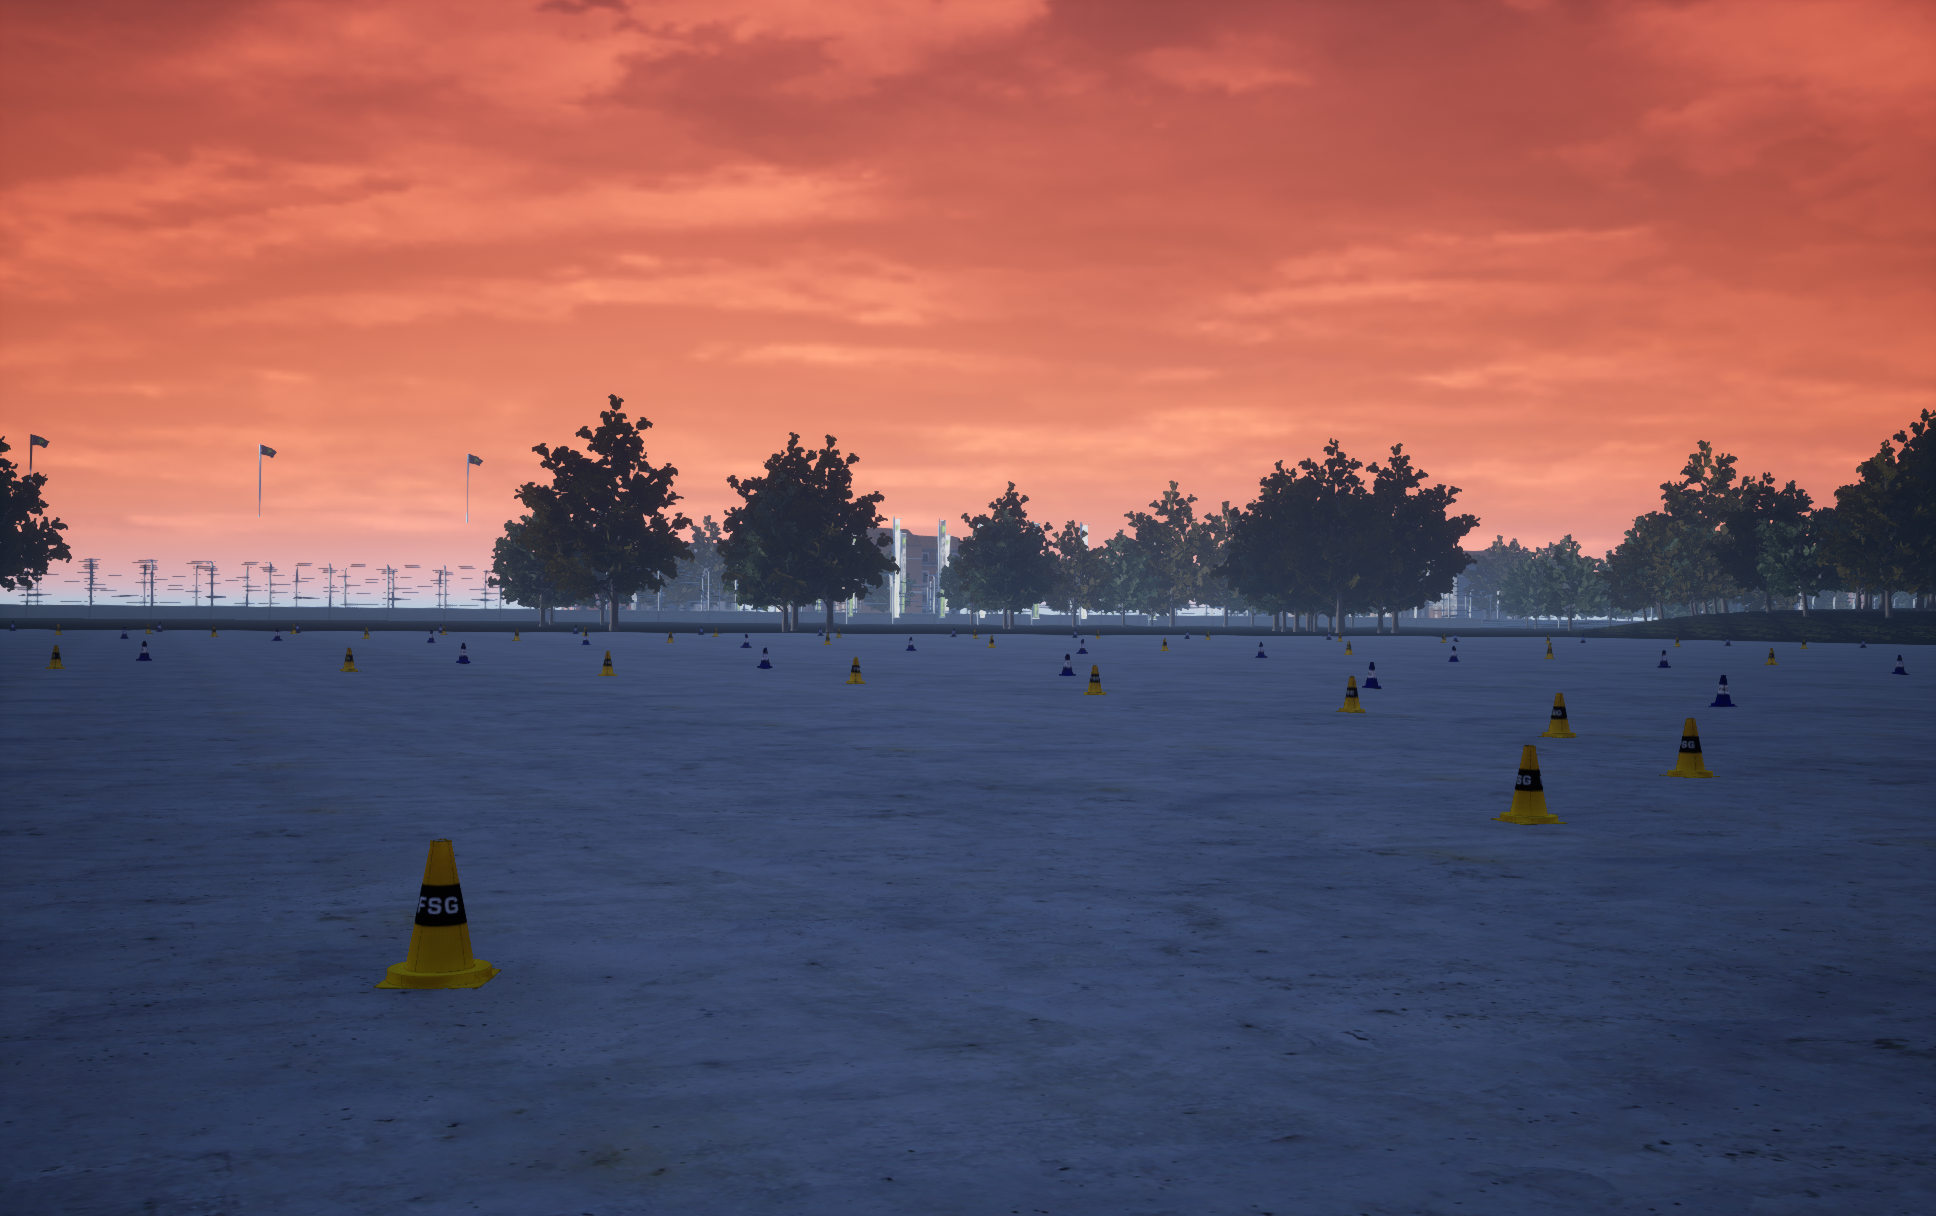blue: (373, 839, 500, 988), (1491, 745, 1568, 824), (1659, 719, 1720, 778), (1538, 693, 1577, 737), (1335, 677, 1364, 712), (1083, 665, 1107, 693), (846, 657, 869, 684), (340, 647, 360, 671), (46, 644, 64, 668), (598, 651, 616, 675)
yellow: (1708, 675, 1737, 706), (1362, 663, 1381, 688), (1059, 654, 1074, 675), (756, 647, 772, 668), (136, 642, 151, 660), (457, 643, 471, 663)
